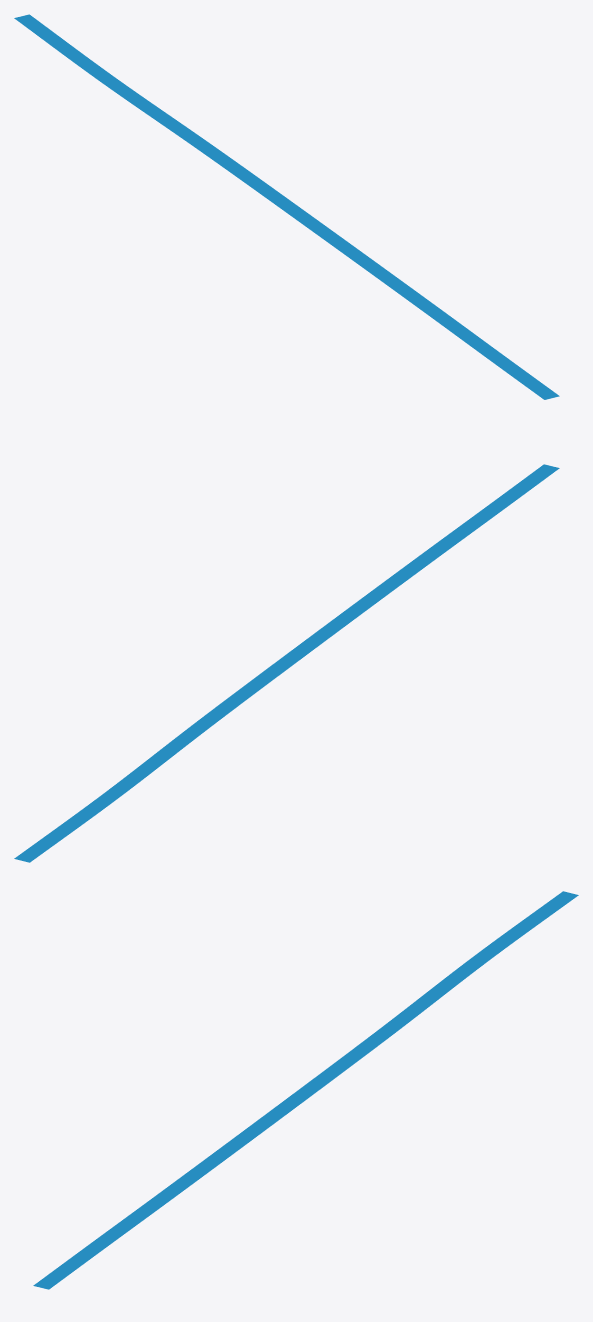
The model's file is guide.glb.
3 views of the same model, one above another, from view 1: azimuth 30°, elevation 25°; view 2: azimuth 150°, elevation 25°; view 3: azimuth 330°, elevation 25° (orthographic). The views are drawn at different scales.
Visible parts, largest first — view 1: static; view 2: static; view 3: static.
Boxes of the visible parts, x1,y1,x2,y2 form: static: (14, 14, 559, 399); static: (14, 464, 559, 862); static: (33, 891, 578, 1289).
Size of the model in its own units: 1 by 0 by 19.68.
